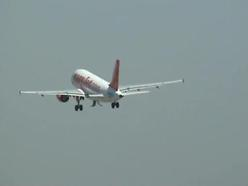aircraft: (19, 59, 185, 112)
